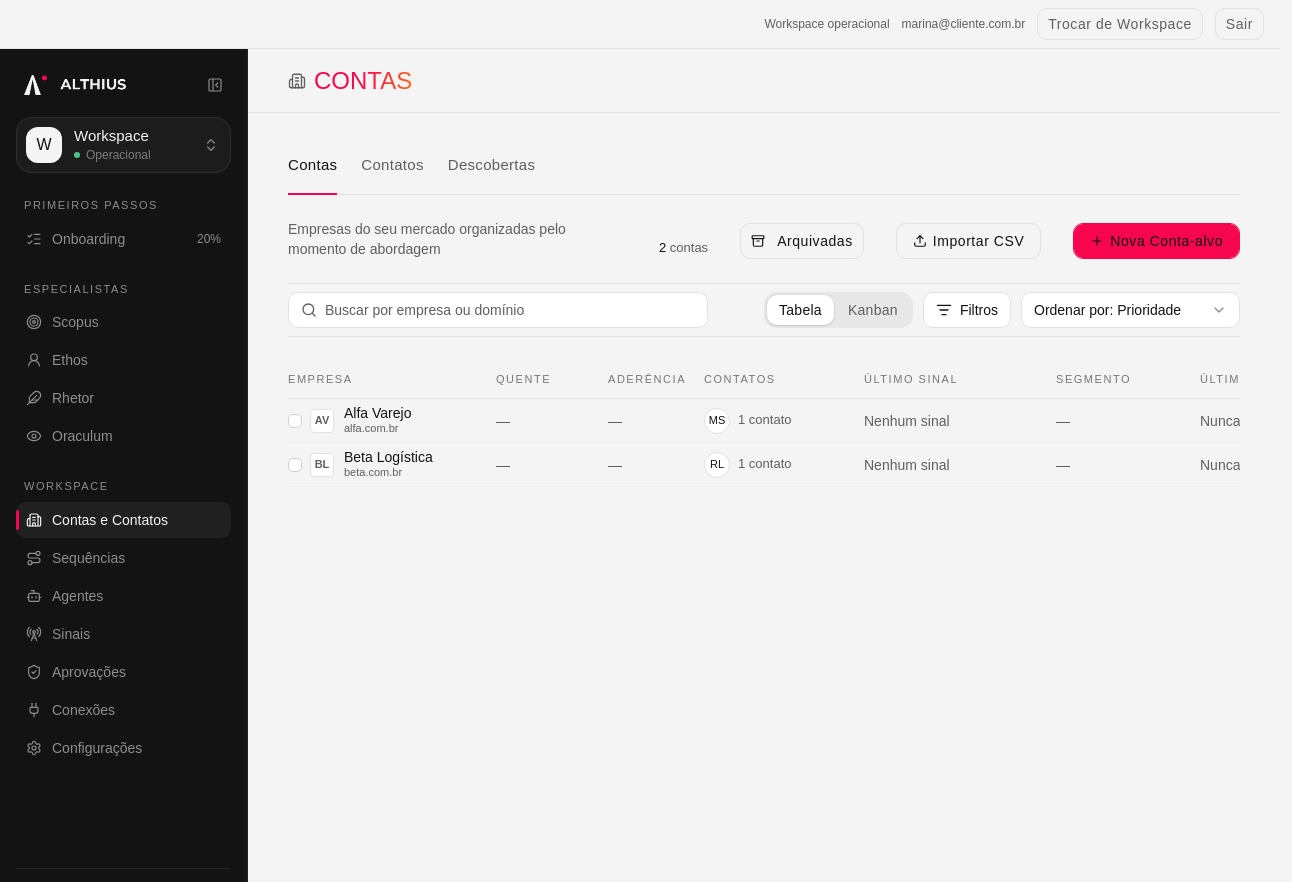
it: Contas-alvo reais no Workspace operacional › a pessoa cadastra uma Conta-alvo manualmente e ela entra na lista
This screenshot has width=1292, height=882.
Click the button "Nova Conta-alvo" at coordinates (1157, 241), box [1073, 223, 1240, 259]
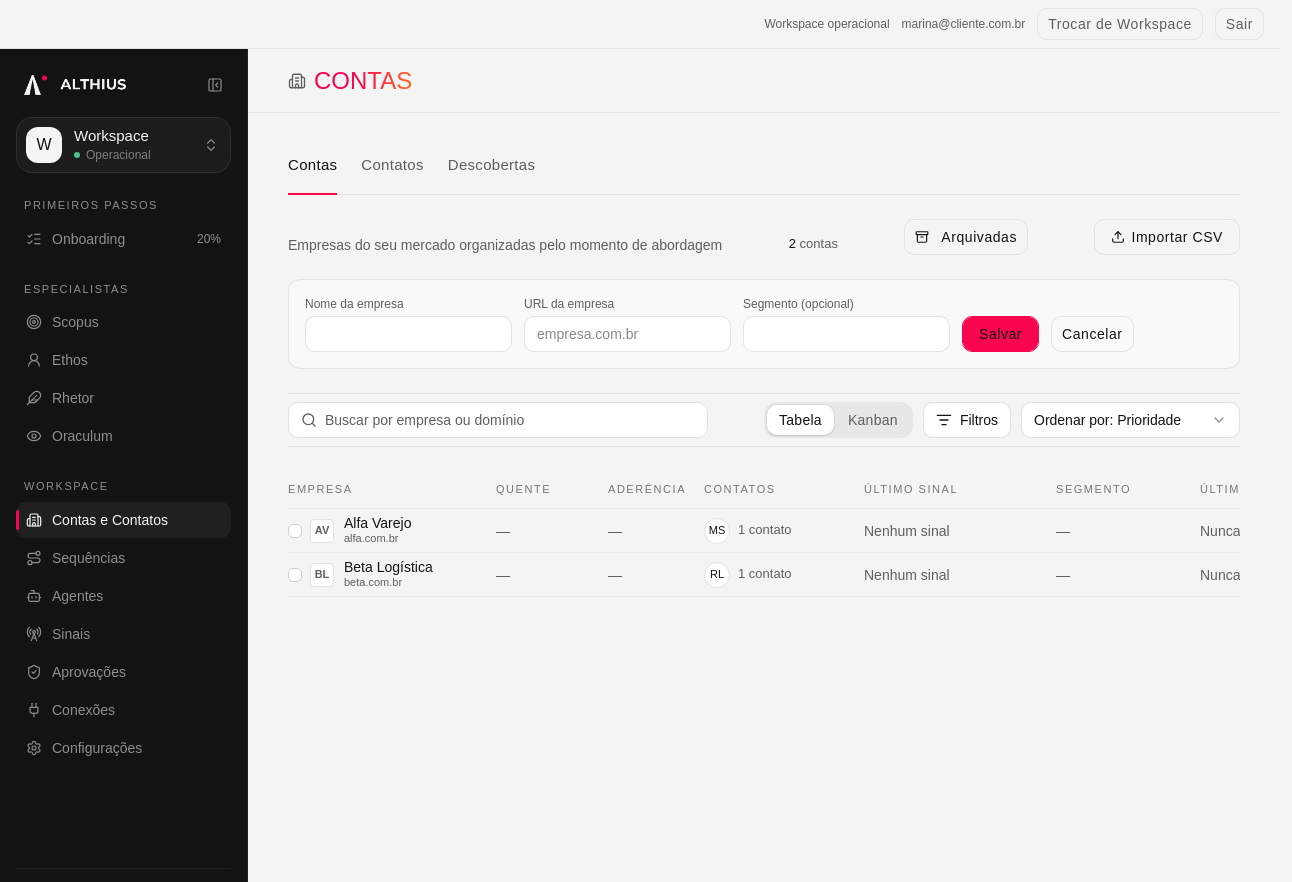
Type "Gama Energia" into the field labelled "Nome da empresa" at coordinates (408, 334), box [305, 316, 512, 352]
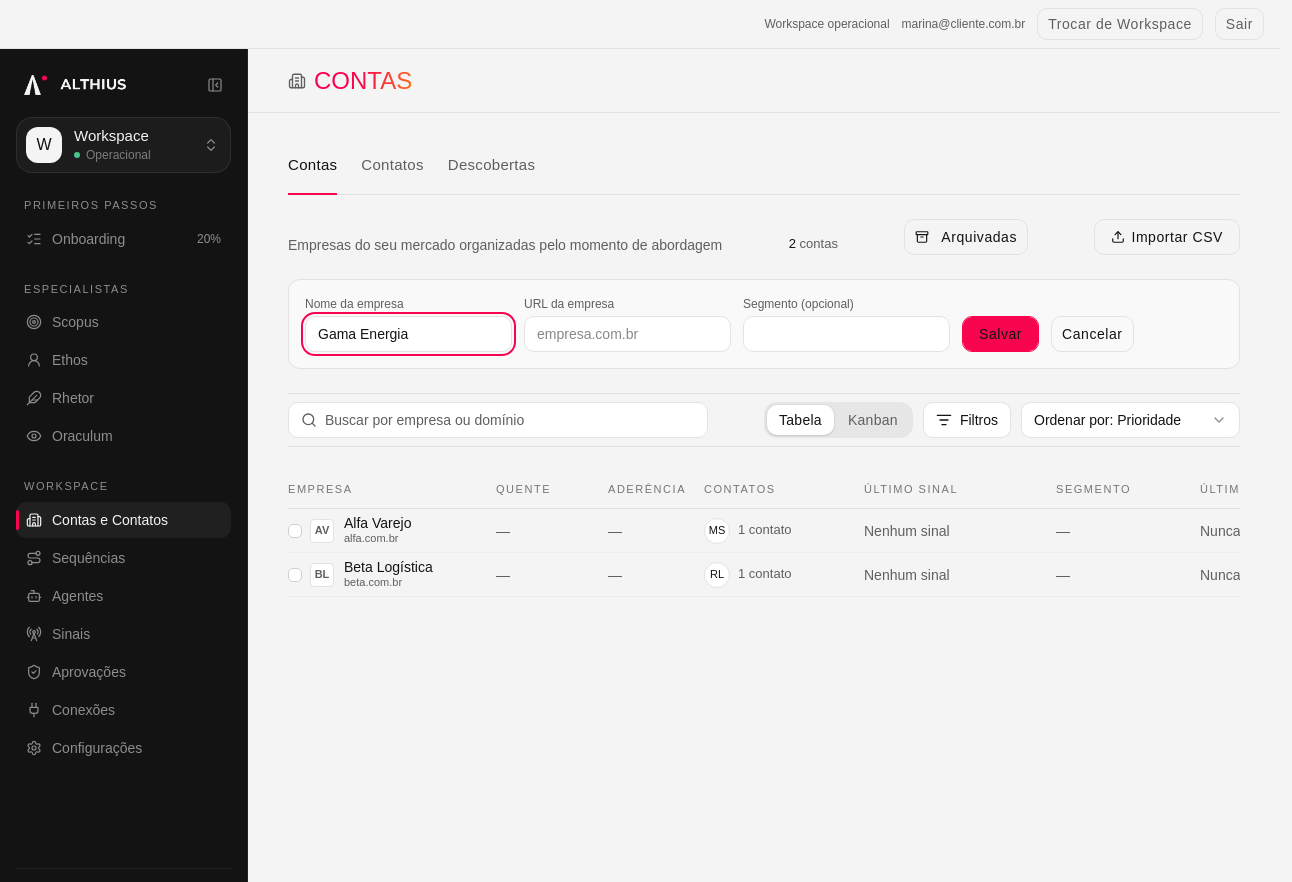
Type "gama.com.br" into the field labelled "URL da empresa" at coordinates (628, 334), box [524, 316, 731, 352]
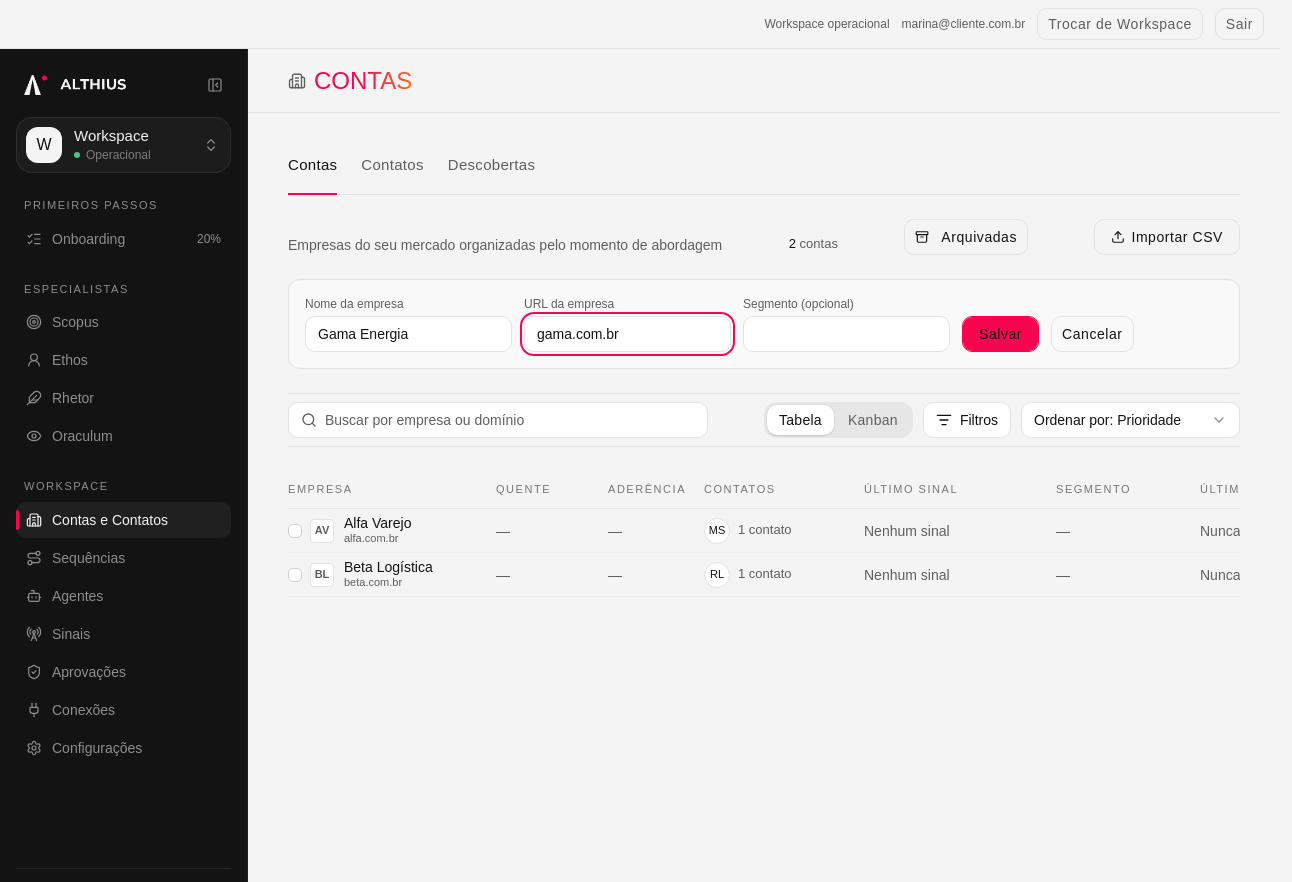
Click the button "Salvar" at coordinates (1000, 334), box [962, 316, 1039, 352]
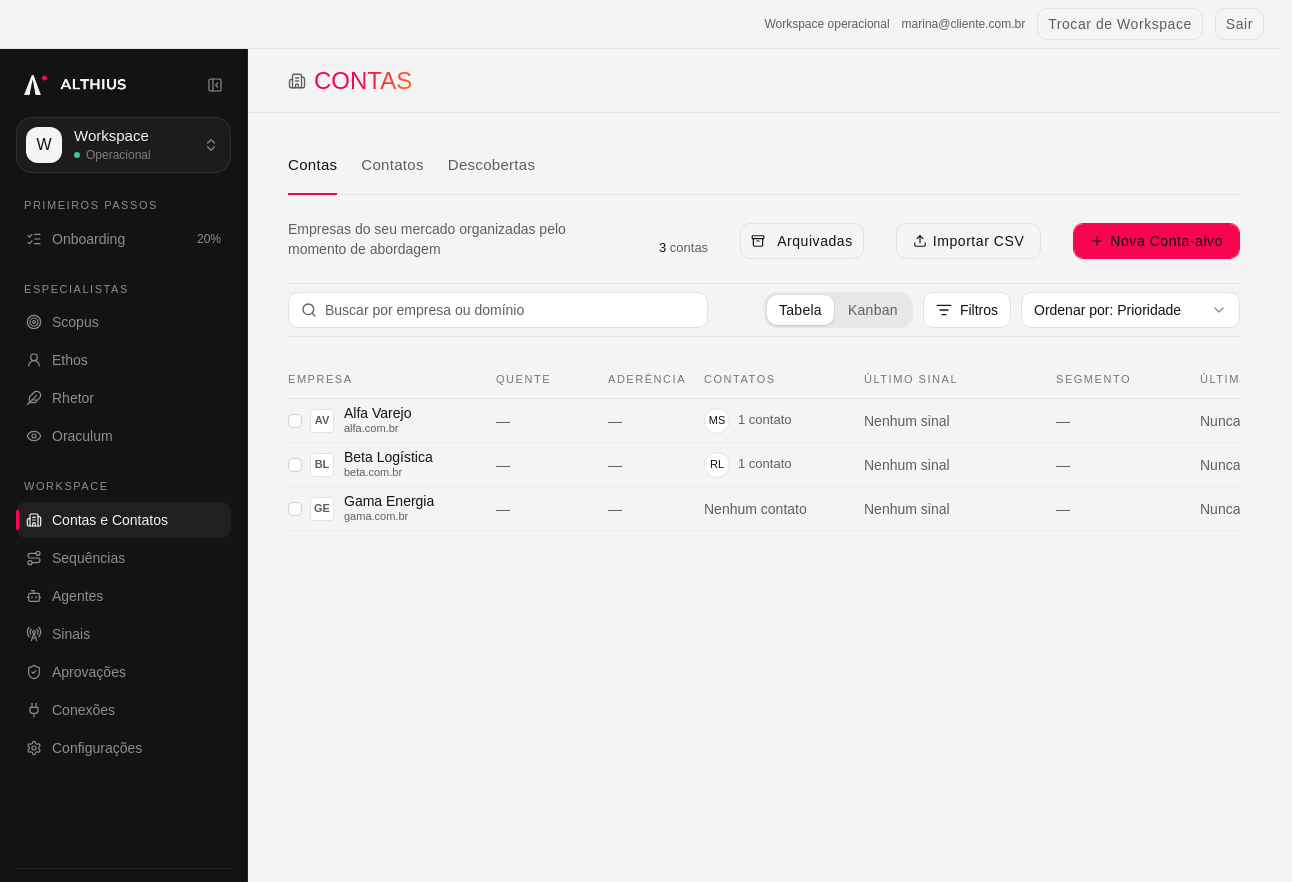
Check: the link "Gama Energia" is shown, box [344, 493, 434, 510]
